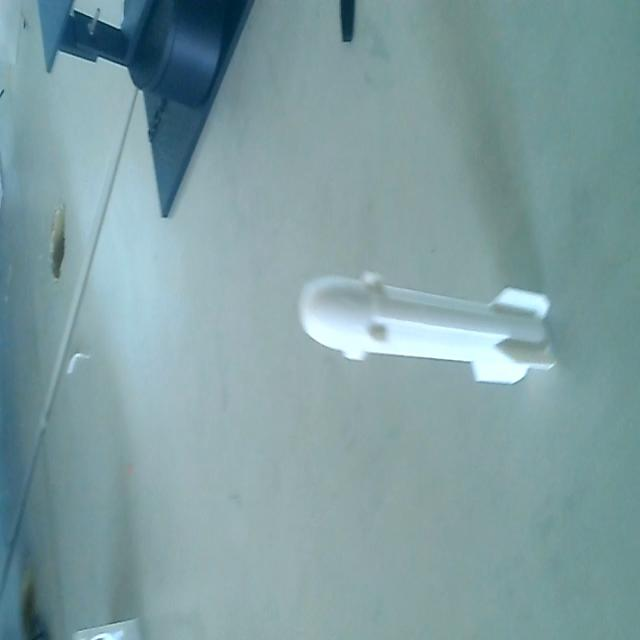Rocket: (296, 254, 556, 406)
